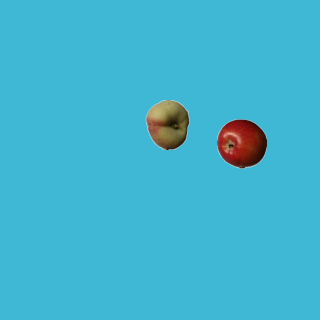Apple Braeburn: (216, 118, 266, 168)
Peach Flat: (142, 99, 192, 149)
